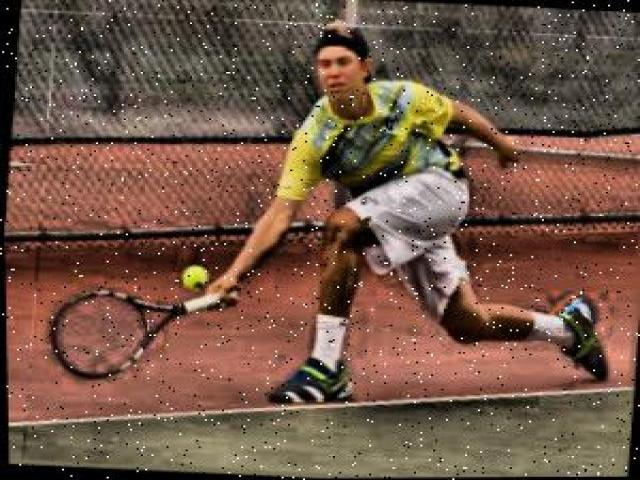tennis-ball: (180, 266, 208, 294)
